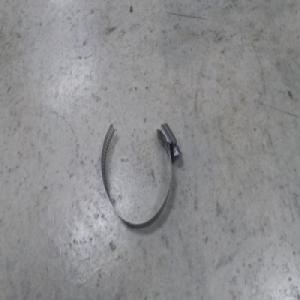AdjustableClamp: (100, 119, 180, 228)
